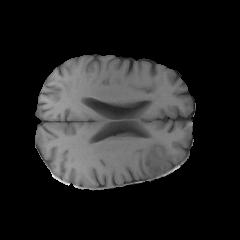glioma: (132, 126, 182, 177)
